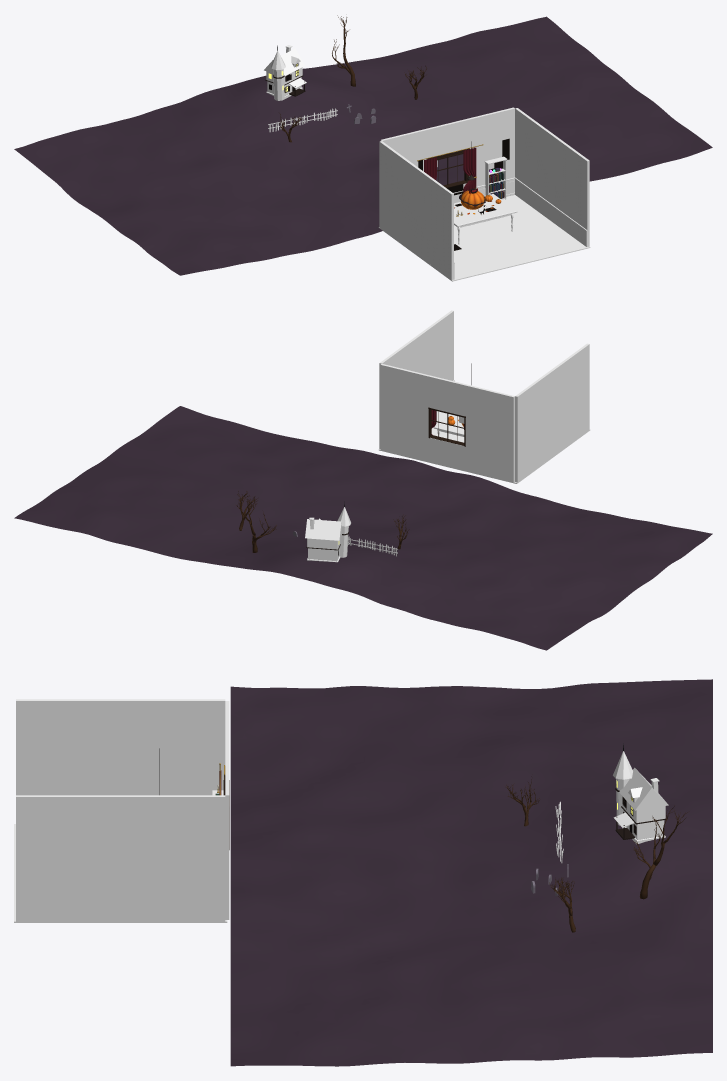
3 views of the same model, one above another, from view 1: azimuth 30°, elevation 25°; view 2: azimuth 150°, elevation 25°; view 3: azimuth 270°, elevation 25° (orthographic). The views are drawn at different scales.
Visible parts, largest first — view 1: OutsideGround, WallSide, Floor, WallSide.001, WallBack.001, WainscotSide.001, WallBack, WallBack.002, TableTop, Curtain.001; view 2: OutsideGround, WallSide, WallBack, WallBack.001, WallSide.001, WallBack.002, WallBack.003, HouseRoof; view 3: OutsideGround, WallSide.001, WallSide, HouseRoof, DeadTree, WallBack.001, Floor.
Boxes of the visible parts, bbox=[...] form: OutsideGround: bbox=[14, 16, 712, 275]; WallSide: bbox=[379, 141, 453, 280]; Floor: bbox=[378, 195, 590, 281]; WallSide.001: bbox=[515, 108, 589, 246]; WallBack.001: bbox=[465, 107, 514, 186]; WainscotSide.001: bbox=[515, 179, 587, 246]; WallBack: bbox=[380, 128, 430, 171]; WallBack.002: bbox=[429, 119, 466, 157]; TableTop: bbox=[454, 194, 517, 226]; Curtain.001: bbox=[463, 147, 476, 192]; OutsideGround: bbox=[14, 406, 712, 650]; WallSide: bbox=[515, 343, 589, 482]; WallBack: bbox=[465, 384, 514, 482]; WallBack.001: bbox=[380, 364, 429, 462]; WallSide.001: bbox=[379, 310, 453, 449]; WallBack.002: bbox=[428, 375, 466, 416]; WallBack.003: bbox=[428, 437, 465, 471]; HouseRoof: bbox=[305, 519, 341, 540]; OutsideGround: bbox=[230, 679, 712, 1066]; WallSide.001: bbox=[16, 795, 225, 921]; WallSide: bbox=[16, 699, 225, 795]; HouseRoof: bbox=[619, 767, 668, 810]; DeadTree: bbox=[633, 805, 689, 899]; WallBack.001: bbox=[225, 761, 229, 919]; Floor: bbox=[14, 824, 227, 922].
Bounding box in the file's own units: 64 × 10.89 × 50.15.
